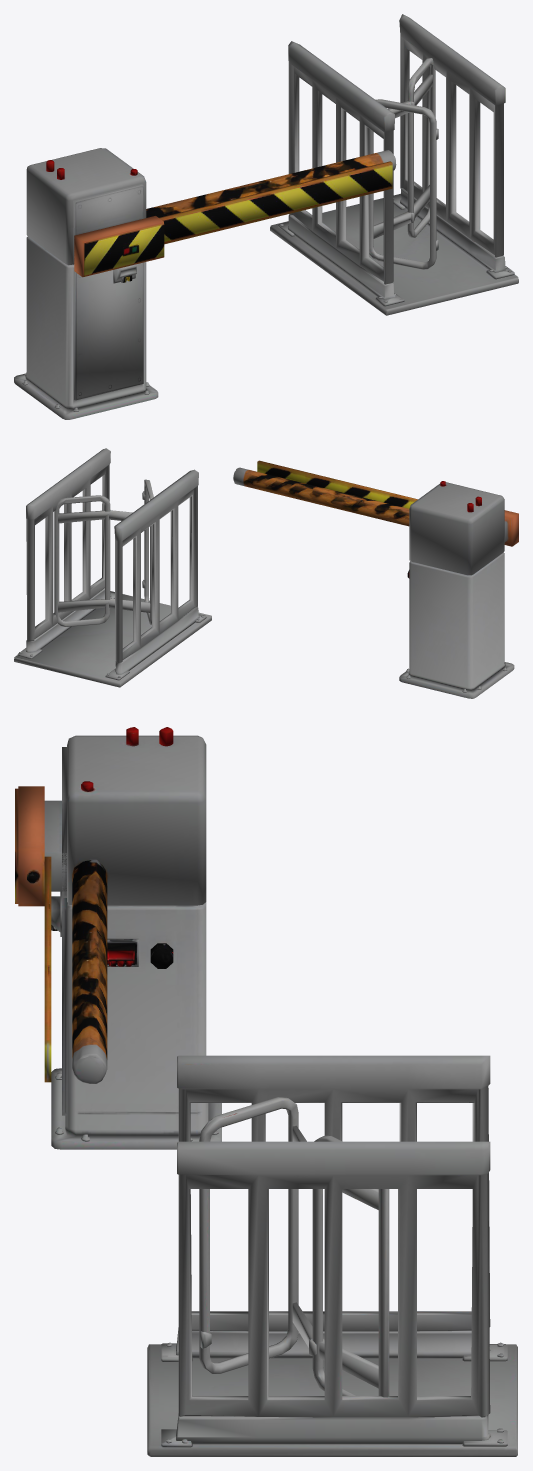
The model's file is selected.glb.
3 renders of one model, top to bottom at view 1: azimuth 30°, elevation 25°; view 2: azimuth 150°, elevation 25°; view 3: azimuth 270°, elevation 25°, orthographic. The views are drawn at different scales.
Visible parts, largest first — view 1: tripo_node_434f0058-327b-48ab-a4d7-92ca580e50a2; view 2: tripo_node_434f0058-327b-48ab-a4d7-92ca580e50a2; view 3: tripo_node_434f0058-327b-48ab-a4d7-92ca580e50a2.
Boxes of the visible parts, x1=… form: tripo_node_434f0058-327b-48ab-a4d7-92ca580e50a2: x1=14, y1=14, x2=518, y2=419; tripo_node_434f0058-327b-48ab-a4d7-92ca580e50a2: x1=14, y1=448, x2=518, y2=698; tripo_node_434f0058-327b-48ab-a4d7-92ca580e50a2: x1=15, y1=727, x2=517, y2=1456.
Bounding box in the file's own units: 0.998 × 0.4551 × 0.5645.
1 material, 1 textured.
